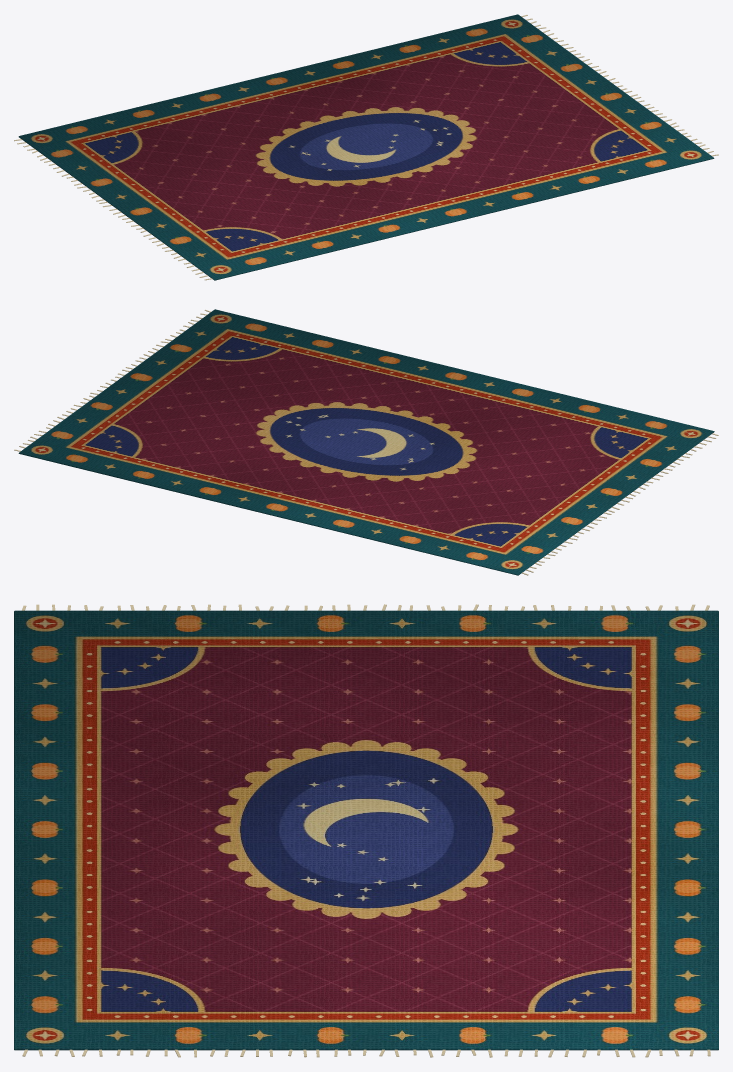
The model's file is manor_rug.glb.
The picture shows the model from 3 angles, top to bottom: view 1: azimuth 30°, elevation 25°; view 2: azimuth 150°, elevation 25°; view 3: azimuth 270°, elevation 25°; orthographic projection. The views are drawn at different scales.
Visible parts, largest first — view 1: Rug; view 2: Rug; view 3: Rug.
Boxes of the visible parts, box(x1,y1,x2,y2) form: Rug: box(14, 14, 718, 280); Rug: box(14, 309, 718, 575); Rug: box(14, 604, 718, 1057).
Size of the model in its own units: 5.16 by 0.012 by 3.4.
Materials: 2 (1 with a texture image).
